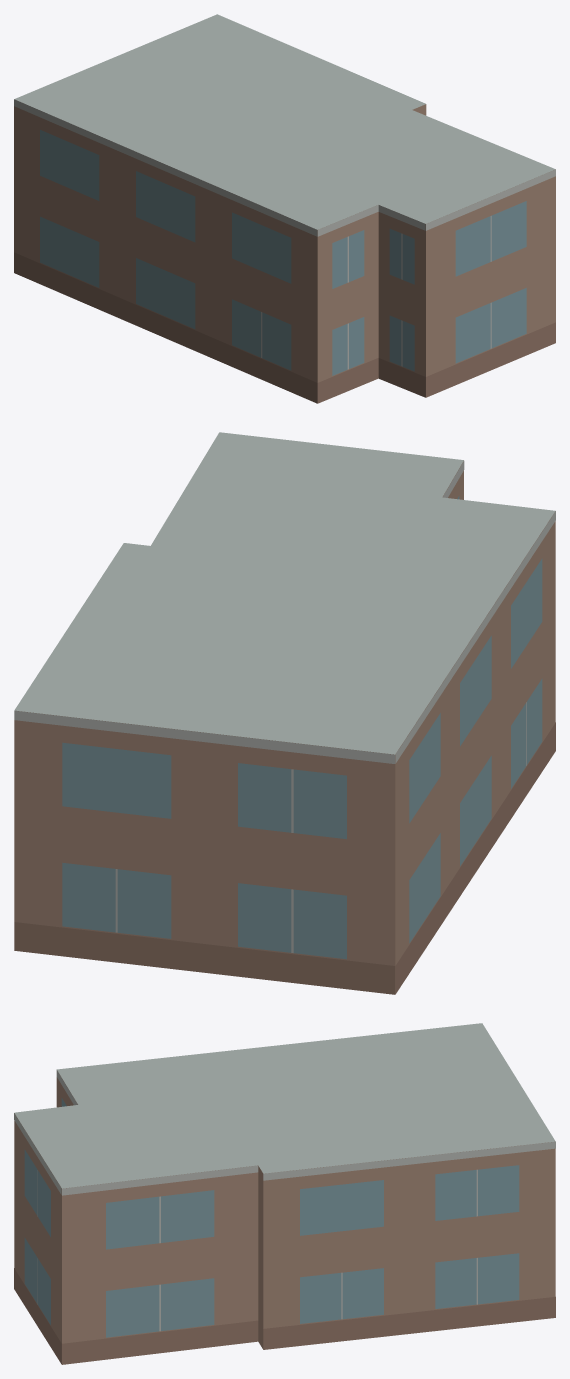
Rendered from survey-upis-32721333.glb.
The picture shows the model from 3 angles, top to bottom: view 1: azimuth 30°, elevation 25°; view 2: azimuth 150°, elevation 25°; view 3: azimuth 270°, elevation 25°; orthographic projection. The views are drawn at different scales.
Visible parts, largest first — view 1: survey-upis-32721333.tmp; view 2: survey-upis-32721333.tmp; view 3: survey-upis-32721333.tmp.
Boxes of the visible parts, box(x1,y1,x2,y2) form: survey-upis-32721333.tmp: box(14, 14, 555, 403); survey-upis-32721333.tmp: box(14, 432, 555, 994); survey-upis-32721333.tmp: box(14, 1023, 555, 1364).
Size of the model in its own units: 12.3 by 6.1 by 17.
